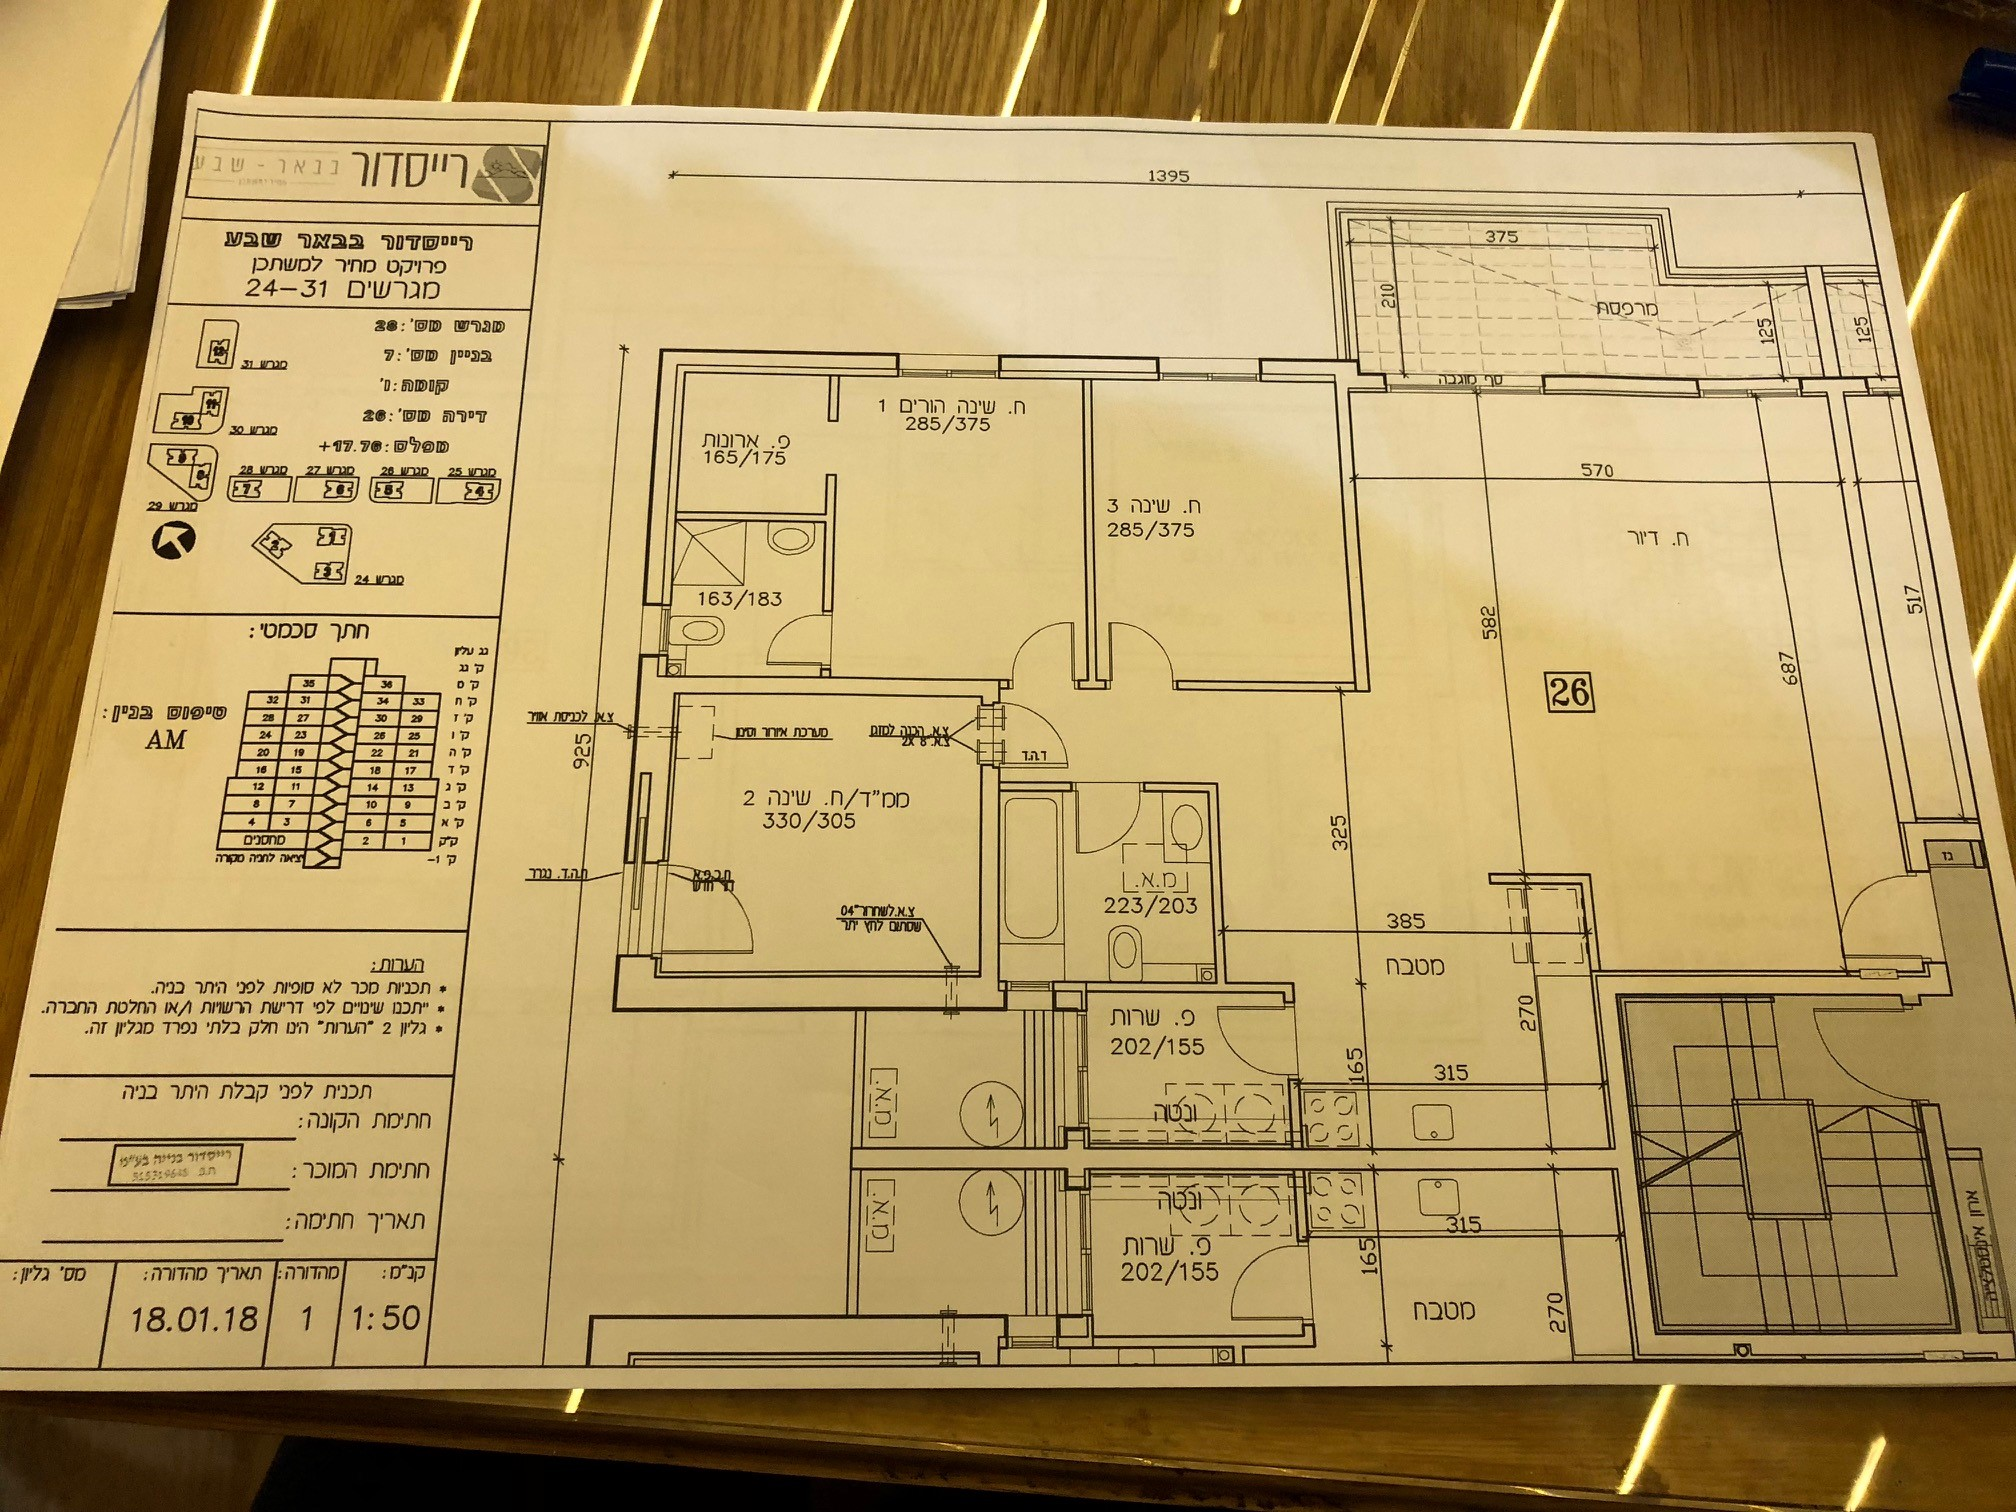door: (1222, 1244, 1341, 1328), (749, 611, 875, 677), (1103, 613, 1176, 707), (1067, 764, 1143, 851)
window: (998, 343, 1162, 384)
